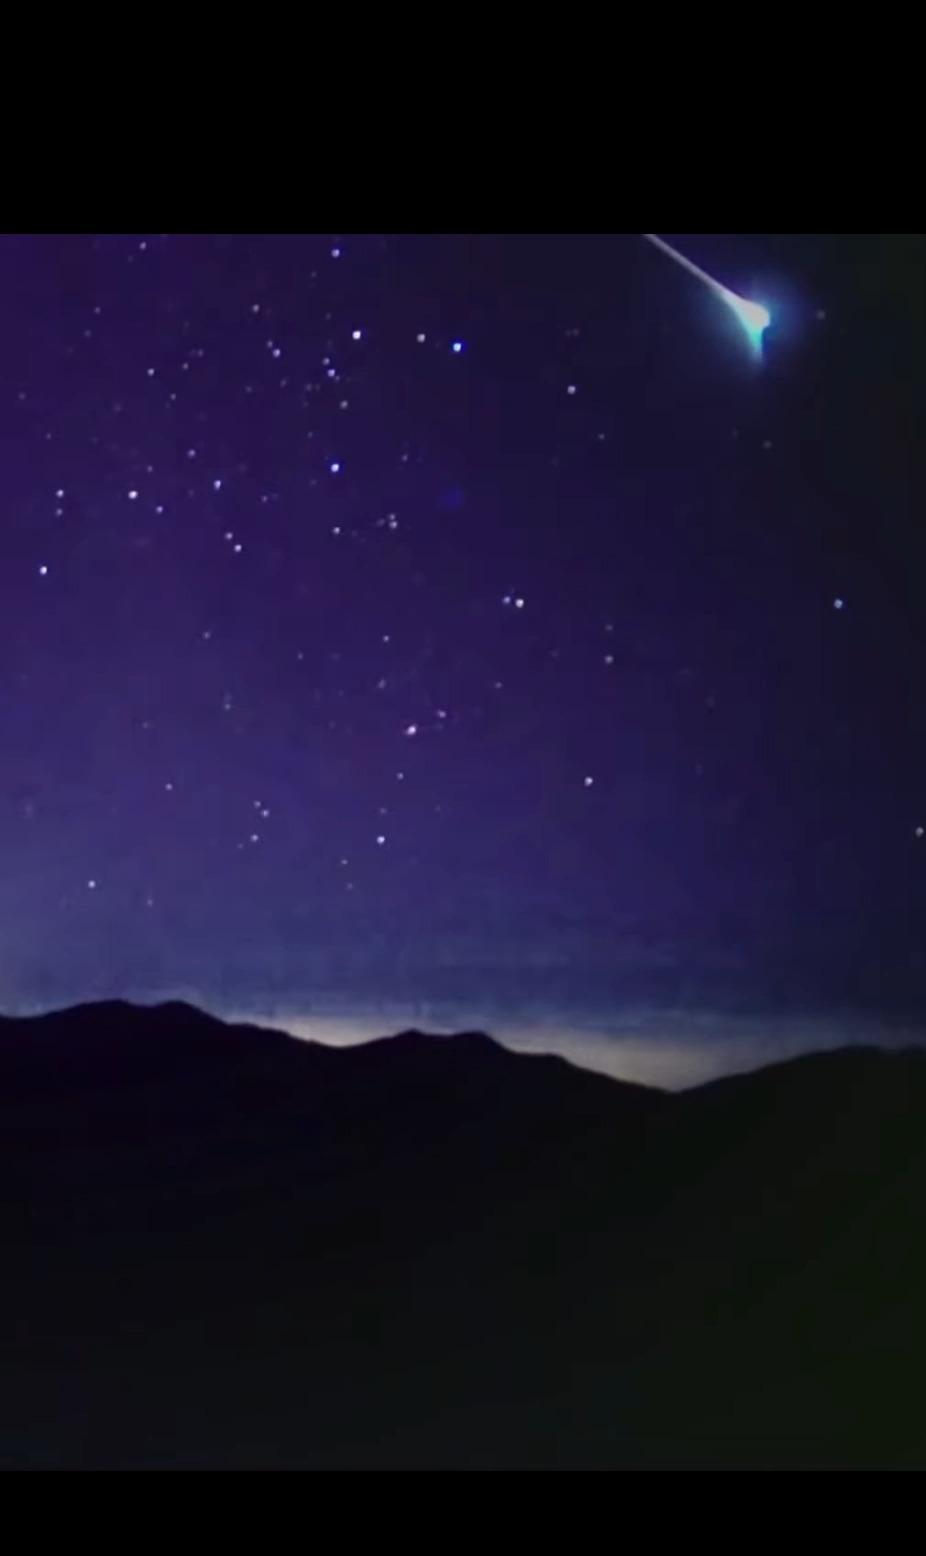meteorite: (640, 244, 808, 363)
